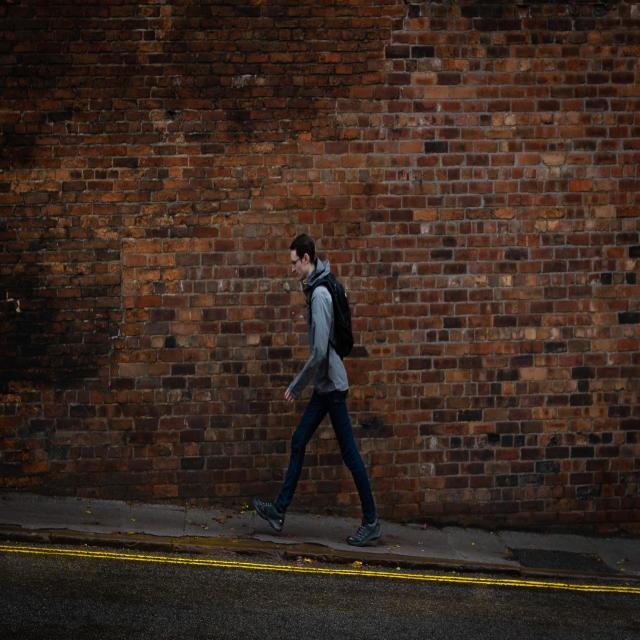adult: (247, 215, 383, 550)
